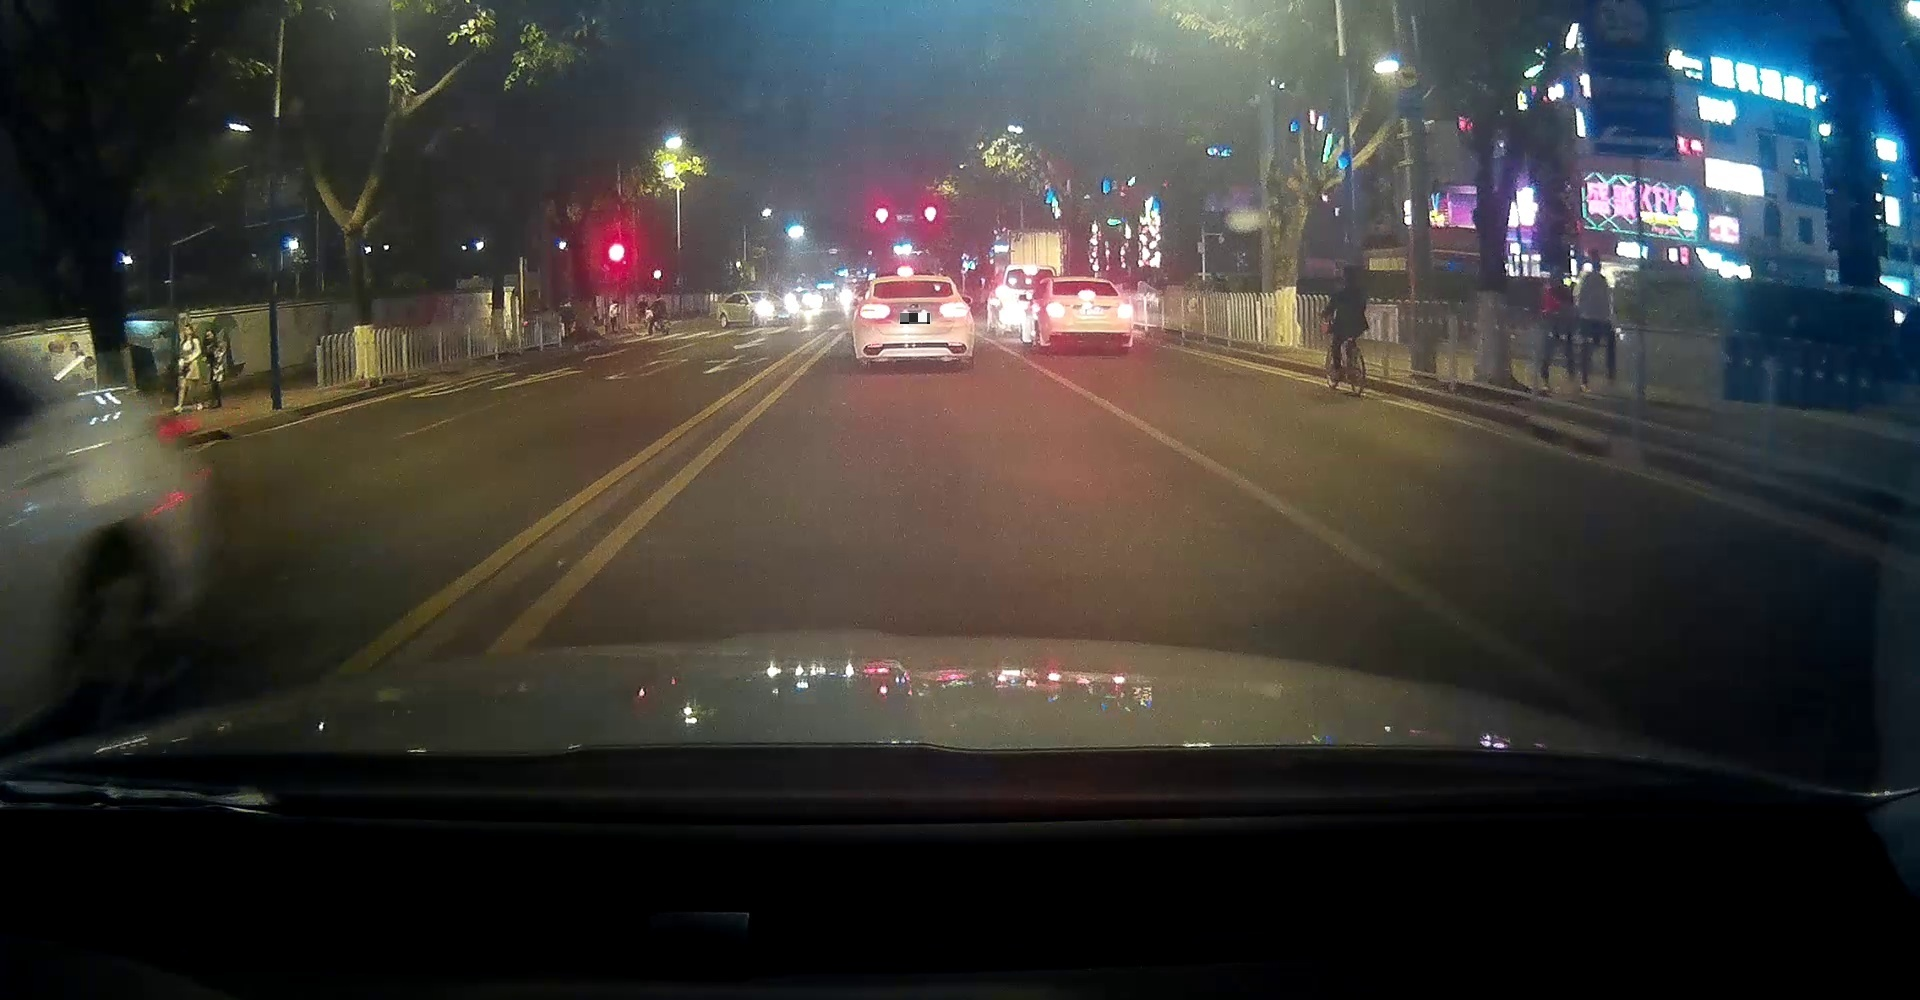L_light: (858, 305, 891, 319), (1045, 302, 1065, 319)
R_light: (938, 301, 970, 319), (1117, 303, 1134, 319)
T_light: (1078, 291, 1096, 298), (907, 282, 924, 286)
night-brake: (1045, 275, 1133, 354)
night-no: (852, 274, 975, 369)
plate_1: (900, 313, 930, 324)
